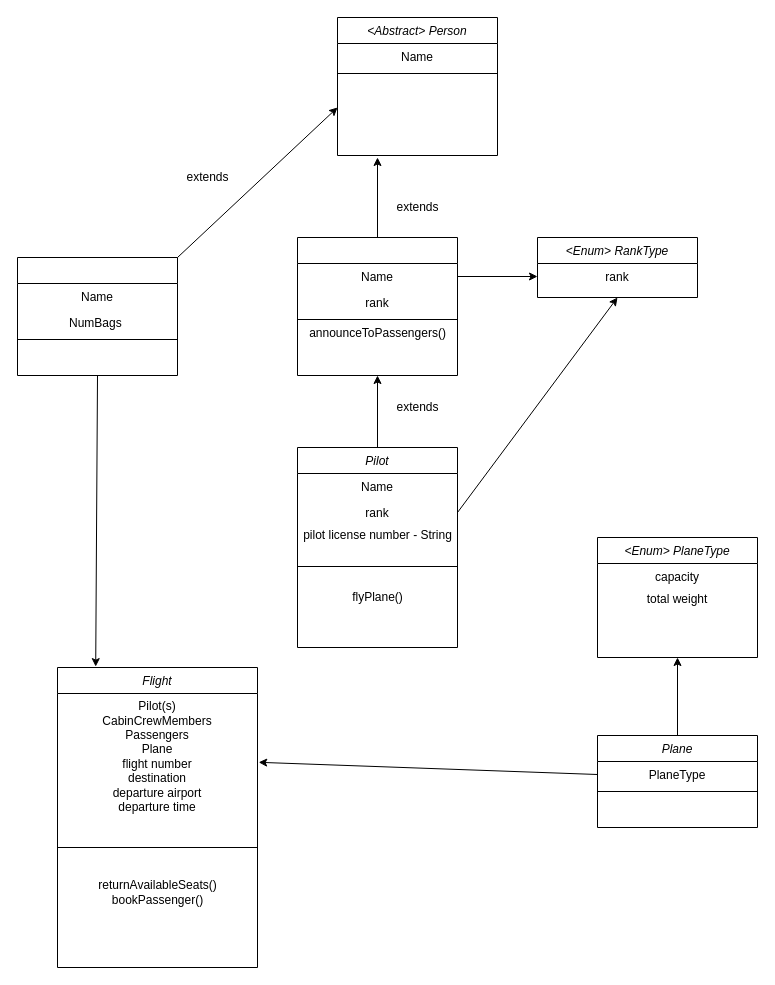
The diagram is 775 pixels wide and 985 high, and some of its shapes have lost their labels. The box of each missing label's shape, as (x1, y1, x2, y2) in pixels:
CabinCrewMember: (296, 236, 458, 376)
Passenger: (16, 256, 178, 376)
